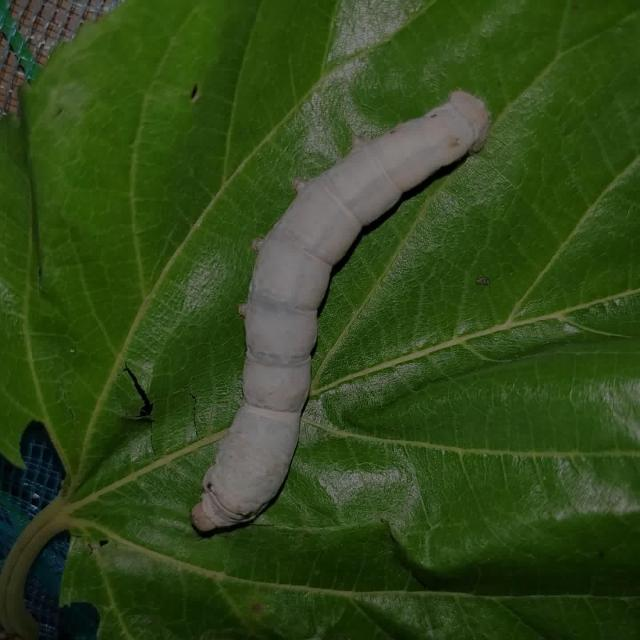Healthy: (181, 86, 497, 544)
